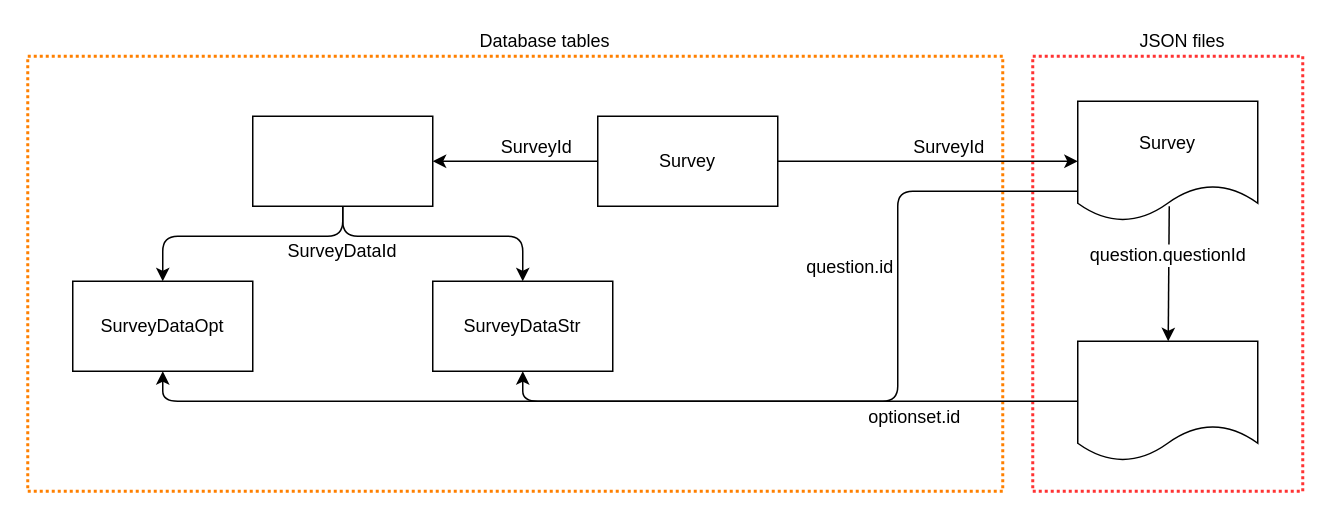
The diagram is 1329 pixels wide and 518 high, and some of its shapes have lost their labels. The shapes that lost their labels are listed below. From the top down, each one's box as (x1, y1, x2, y2) in pixels, then its label:
(251, 115, 433, 206): SurveyData
(1076, 340, 1258, 461): Question
